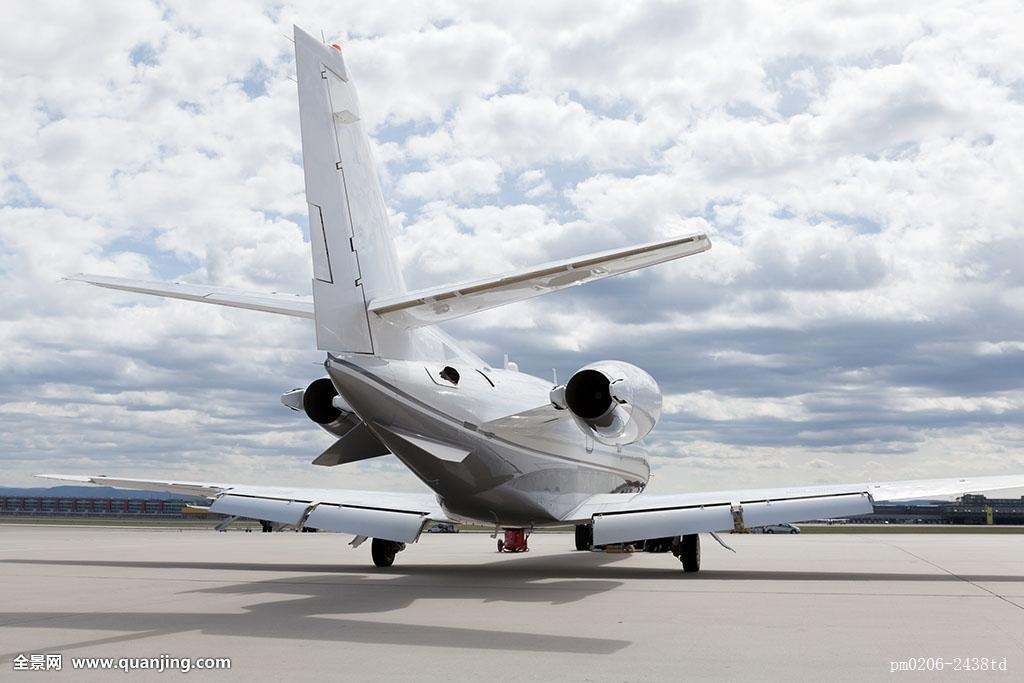airplane: (16, 18, 1013, 568)
